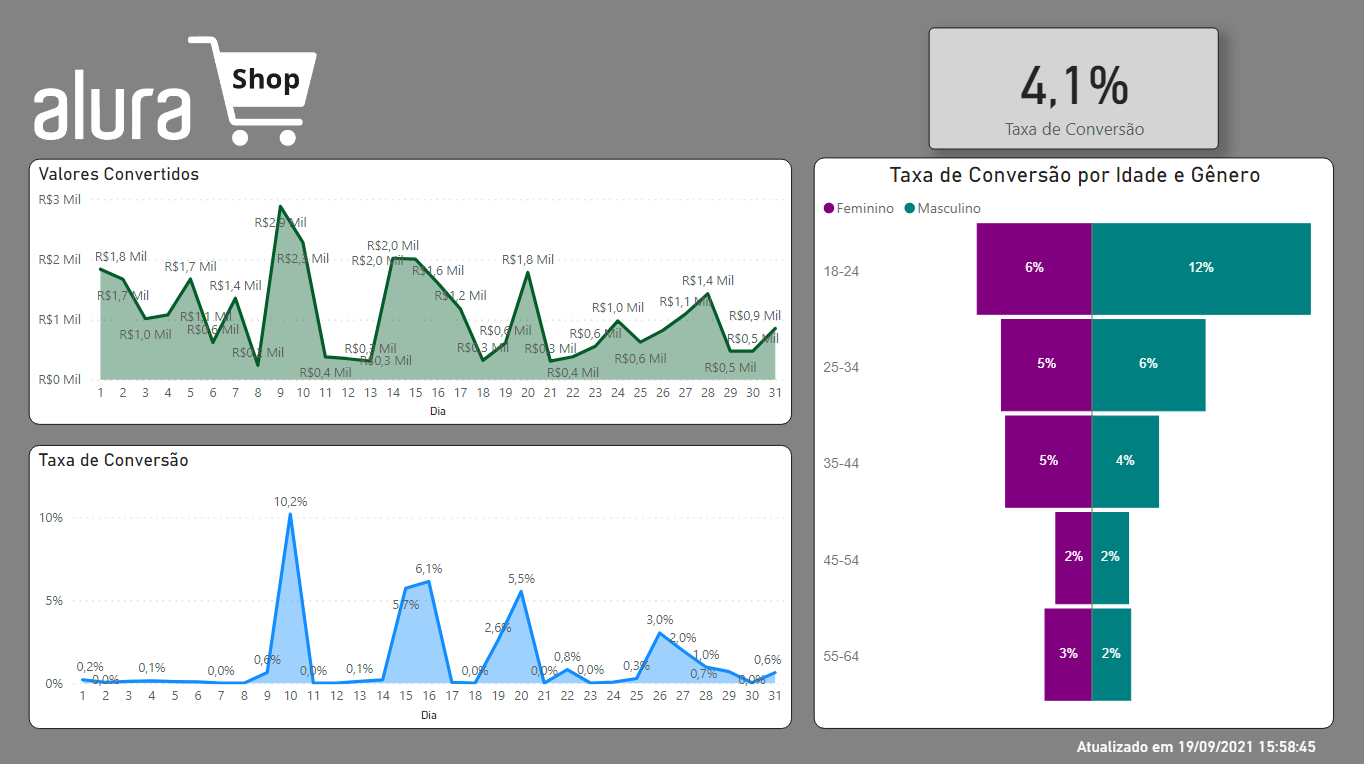

The page's visual inventory and layout, read from the dashboard file:
{"tool":"powerbi","page":{"name":"Estatística de Conversão","canvas":[1280,720],"ordinal":1},"visuals":[{"type":"image","box":[27,25.6,275.6,118.4],"z":0},{"type":"card","fields":{"Values":["Tabela_idade_e_genero.Tx Conversao"]},"box":[871.8,25.8,271.7,114.6],"z":1000},{"type":"areaChart","title":"Taxa de Conversão","fields":{"Category":["Tabela_idade_e_genero.Dia.Variation.Hierarquia de datas.Dia"],"Y":["Variance(Tabela_idade_e_genero.TX Conversao Dia)"]},"box":[27,417.2,716,266.6],"z":2000},{"type":"areaChart","title":"Valores Convertidos","fields":{"Category":["Tabela_idade_e_genero.Dia.Variation.Hierarquia de datas.Dia"],"Y":["Sum(Tabela_idade_e_genero.Valor de conversão de compras)"]},"box":[27,148.4,716,249.8],"z":3000},{"type":"TornadoChart1452517688218","title":"Taxa de Conversão por Idade e Gênero","fields":{"Series":["Tabela_idade_e_genero.Gênero"],"Category":["Tabela_idade_e_genero.Idade"],"Values":["Tabela_idade_e_genero.Tx Conversao"]},"box":[763.6,148.1,488,535.7],"z":4000},{"type":"card","fields":{"Values":["Atualização.Atualização"]},"box":[994.1,683.8,256.3,36.1],"z":4001}]}

Visuals, with their boxes in screenshot pixels (x1, y1, x2, y2), scaled from the page's 1280x720 canvas onto the 1364x764 screenshot:
image: box(29, 27, 322, 153)
card - Tabela_idade_e_genero.Tx Conversao: box(929, 27, 1219, 149)
"Taxa de Conversão" areaChart: box(29, 443, 792, 726)
"Valores Convertidos" areaChart: box(29, 157, 792, 423)
"Taxa de Conversão por Idade e Gênero" TornadoChart1452517688218: box(814, 157, 1334, 726)
card - Atualização.Atualização: box(1059, 726, 1332, 763)
